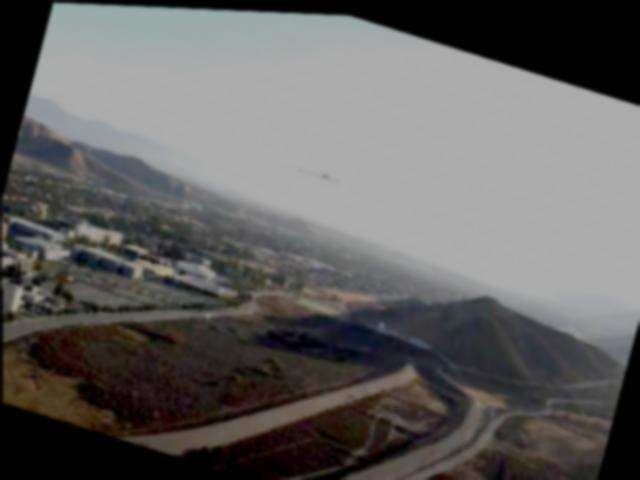iha: (294, 159, 344, 184)
